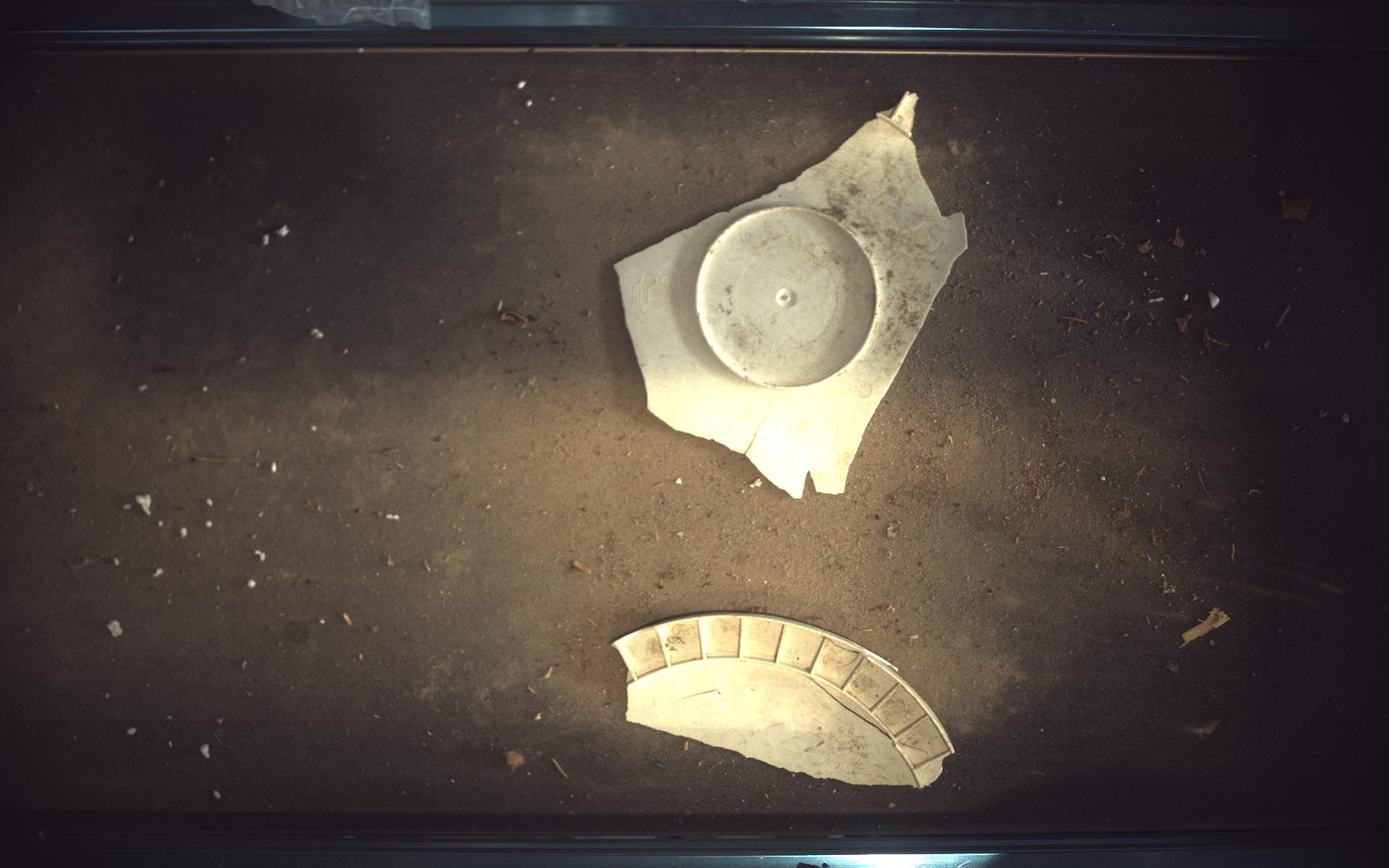plastic: (616, 92, 969, 498), (614, 614, 956, 788)
